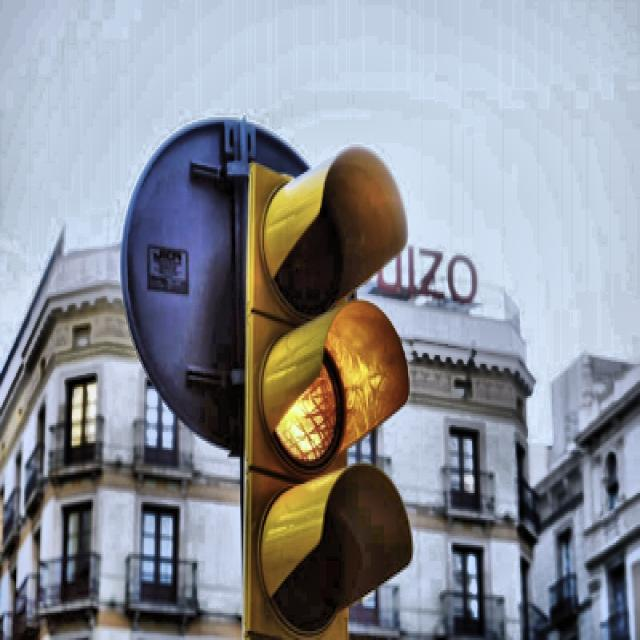yellow: (252, 145, 414, 640)
